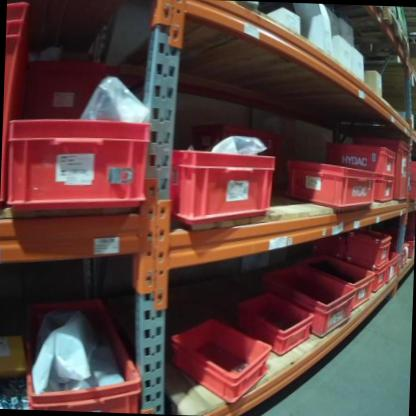pallet: (307, 7, 415, 60)
small_load_carrier: (5, 113, 149, 219), (21, 297, 142, 409), (170, 312, 273, 408), (253, 263, 363, 341), (162, 152, 275, 227), (1, 0, 40, 210), (20, 47, 120, 127), (192, 122, 286, 194), (235, 291, 318, 358), (301, 248, 382, 307), (282, 160, 375, 211), (362, 137, 411, 204), (329, 138, 399, 178), (347, 230, 395, 267), (357, 263, 388, 297), (367, 177, 398, 206), (383, 251, 403, 285), (408, 156, 416, 187), (409, 185, 415, 205), (410, 237, 415, 260)
